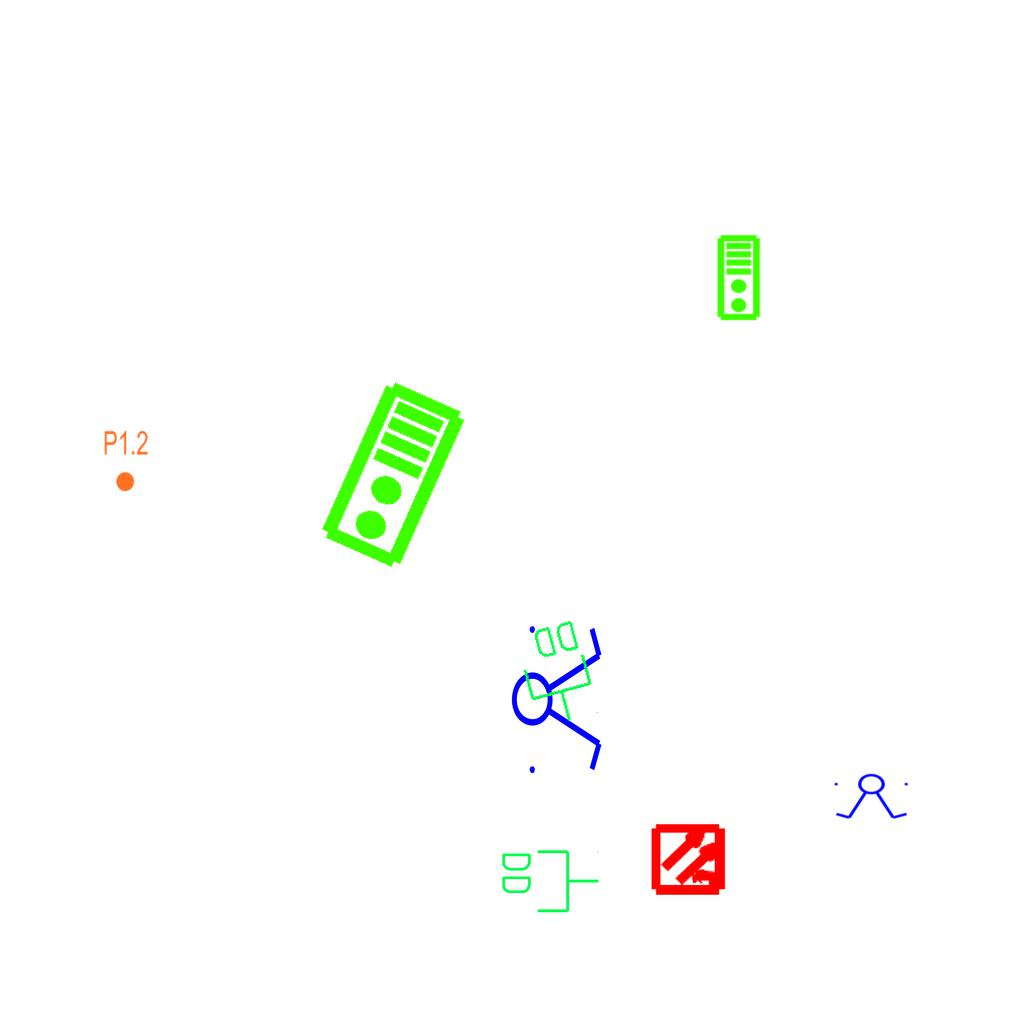Datenanschluss_zweifach: (510, 614, 605, 733), (498, 846, 601, 915)
Downlight_LED_Einbauleuchten_Flur: (103, 429, 149, 493)
Gegensprechanlage_mit_Video: (315, 376, 474, 576), (716, 234, 763, 322)
OT_Multisensormelder_(Kombination_RMO_WMD): (634, 803, 747, 916)
Serienschalter: (510, 614, 606, 782), (830, 773, 914, 821)
